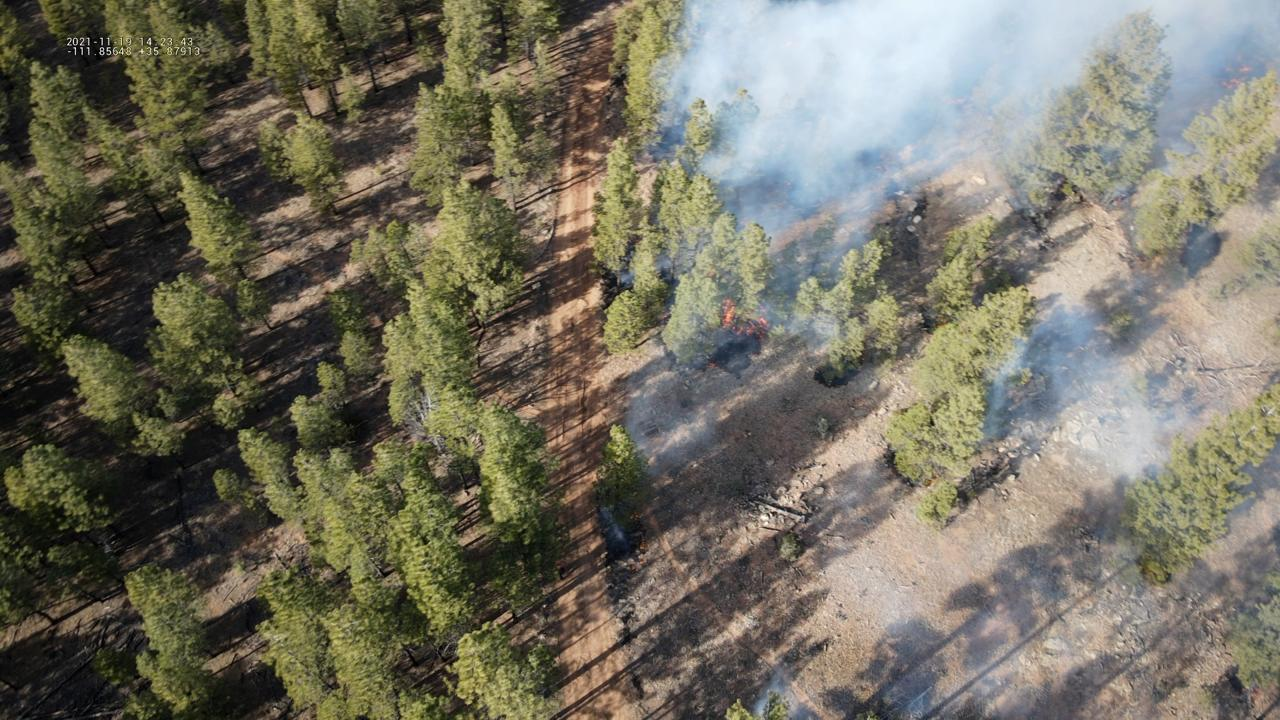fire: (719, 294, 768, 339), (1218, 78, 1243, 91), (640, 531, 650, 552), (704, 362, 718, 370), (1239, 65, 1250, 73), (1224, 66, 1232, 72)
smoke: (613, 0, 1280, 478), (975, 295, 1201, 479), (750, 665, 819, 720), (597, 506, 626, 543)
